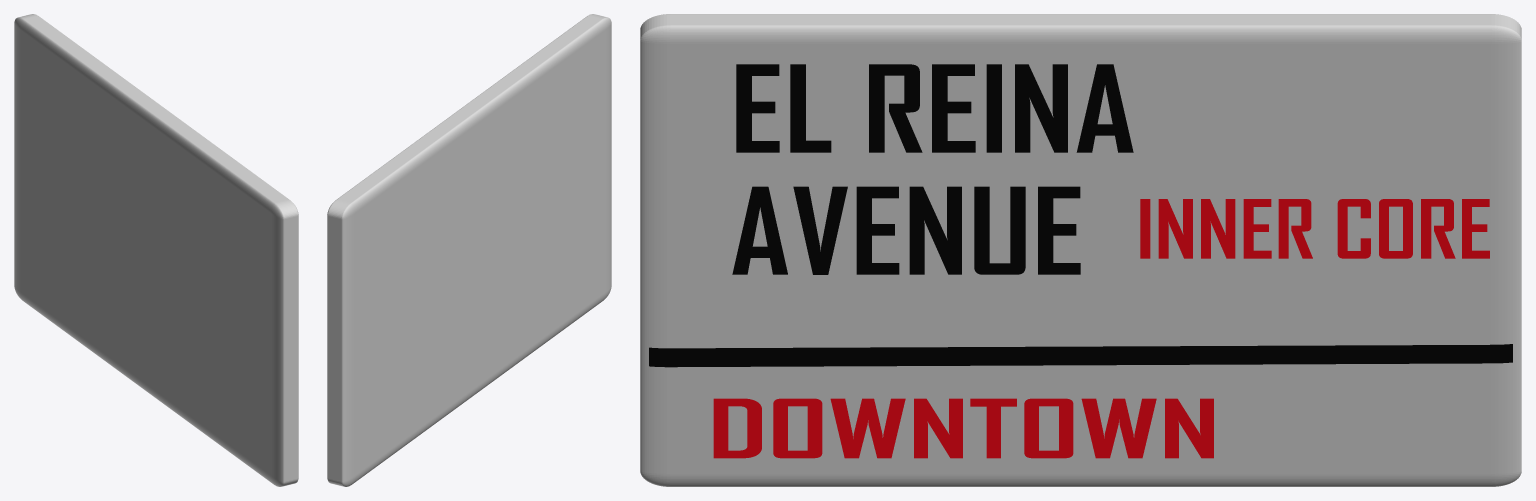
Rendered from uk_styled_street_sign_2.fbx.
3 renders of one model, left to right at view 1: azimuth 30°, elevation 25°; view 2: azimuth 150°, elevation 25°; view 3: azimuth 270°, elevation 25°, orthographic. The views are drawn at different scales.
Parts seen in each view (by area): view 1: Cube; view 2: Cube; view 3: Cube, Text.002, Text, Text.001, Text.003.
Boxes of the visible parts, x1,y1,x2,y2 form: Cube: [14, 14, 298, 486]; Cube: [327, 14, 611, 486]; Cube: [640, 14, 1521, 486]; Text.002: [713, 398, 1213, 458]; Text: [736, 64, 1133, 152]; Text.001: [732, 186, 1080, 274]; Text.003: [1140, 199, 1489, 258].
Bounding box in the file's own units: 1.63 × 20.07 × 34.74.
